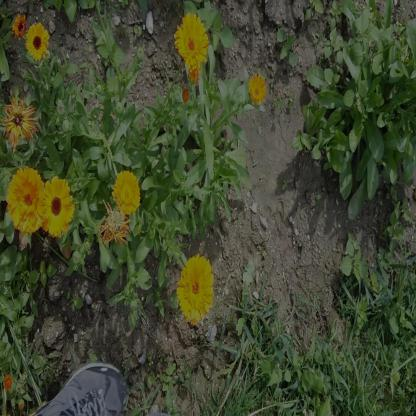marigold: (176, 255, 212, 324), (8, 166, 44, 232), (42, 178, 74, 235), (174, 18, 208, 68), (4, 96, 36, 144), (112, 170, 138, 211), (24, 23, 49, 62), (247, 72, 267, 104)
